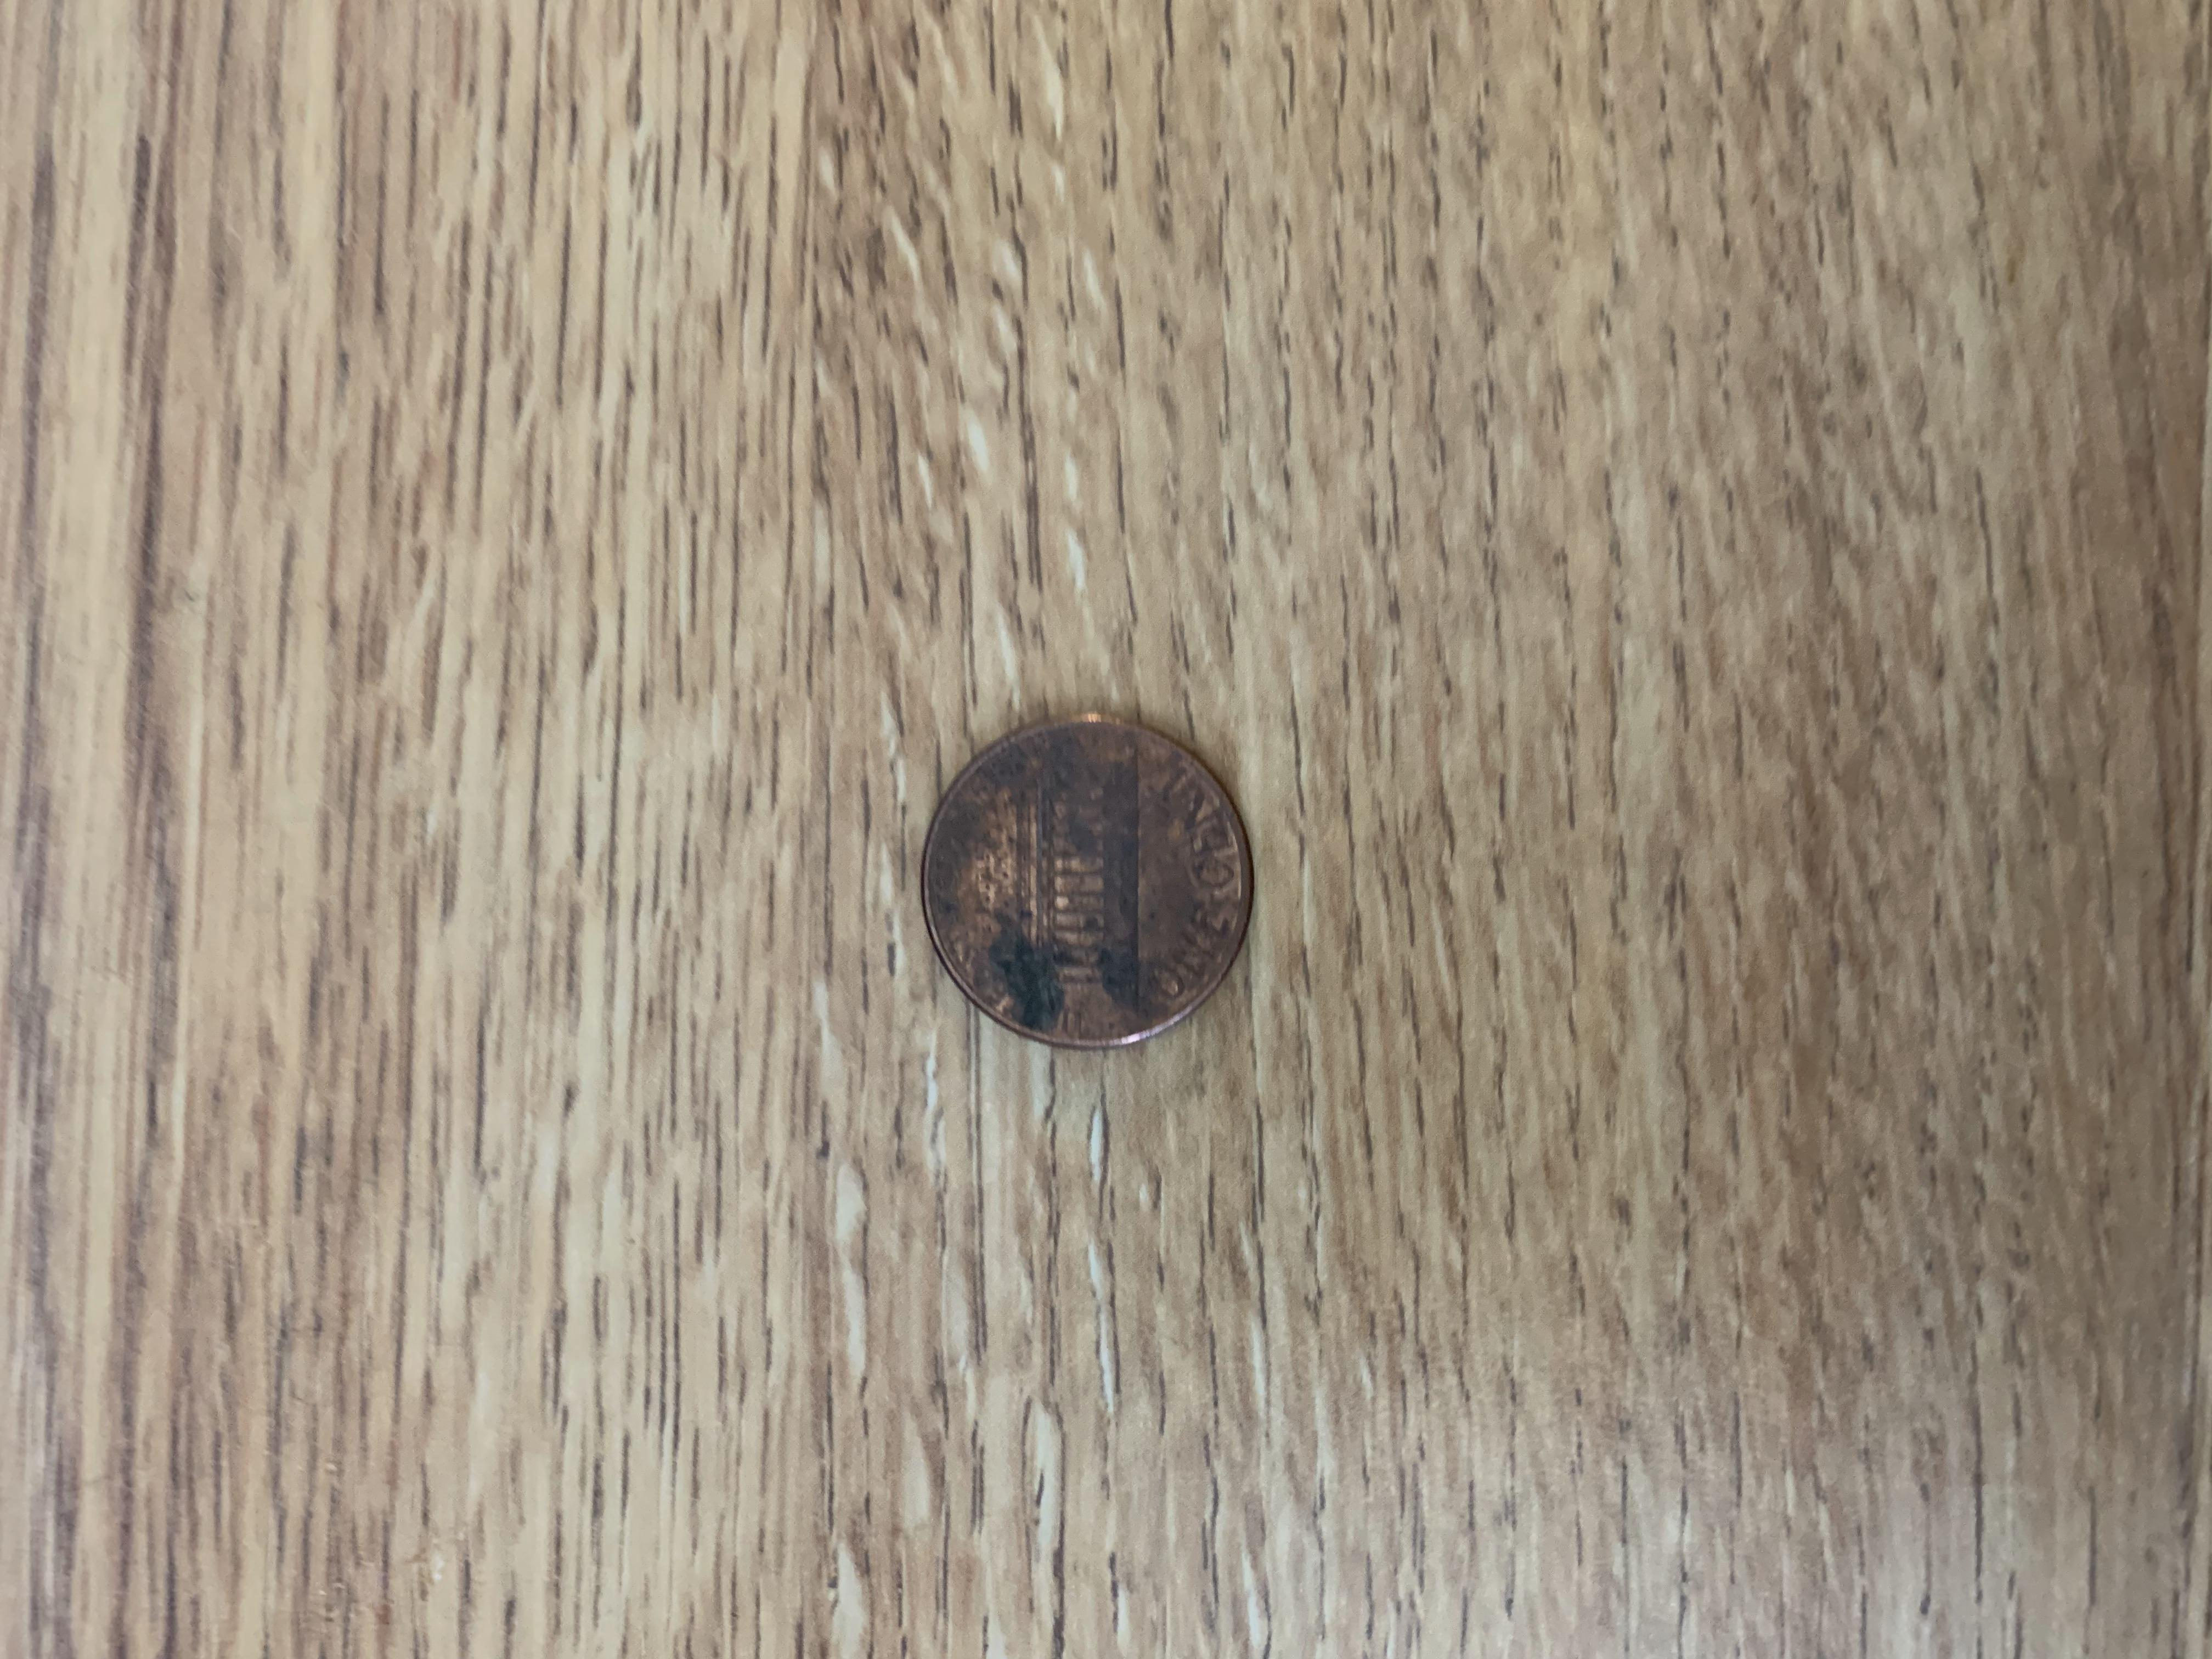Penny: (911, 702, 1263, 1066)
